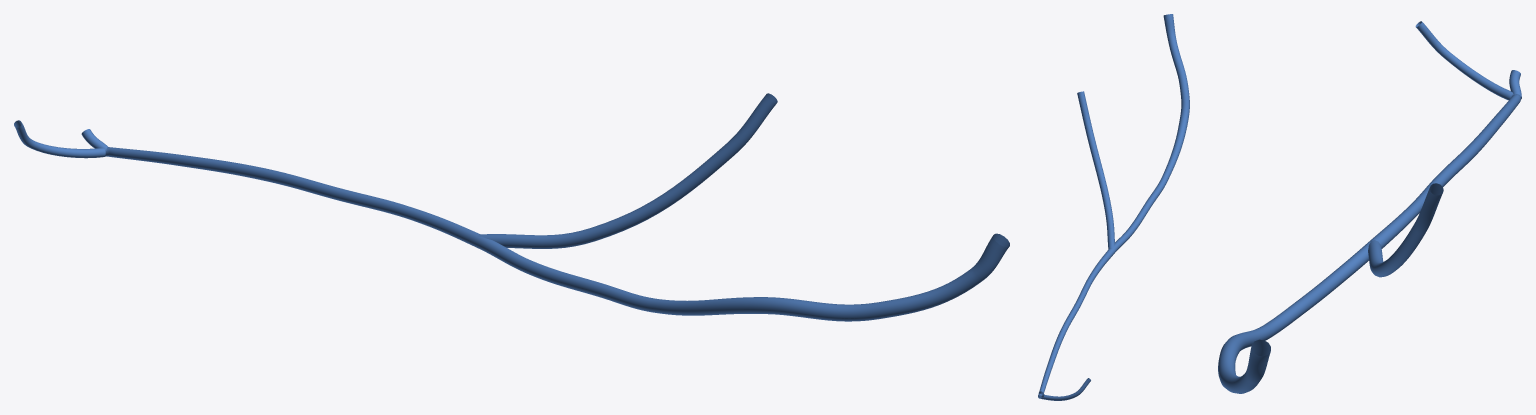
3 views of the same model, side by side, from view 1: azimuth 30°, elevation 25°; view 2: azimuth 150°, elevation 25°; view 3: azimuth 330°, elevation 25° (orthographic). The views are drawn at different scales.
Visible parts, largest first — view 1: 右侧前臂正中静脉; view 2: 右侧前臂正中静脉; view 3: 右侧前臂正中静脉.
Boxes of the visible parts, x1,y1,x2,y2 form: 右侧前臂正中静脉: (14, 93, 1009, 321); 右侧前臂正中静脉: (1038, 14, 1189, 400); 右侧前臂正中静脉: (1218, 21, 1521, 393).
Bounding box in the file's own units: 0.1276 × 0.0752 × 0.3063.
